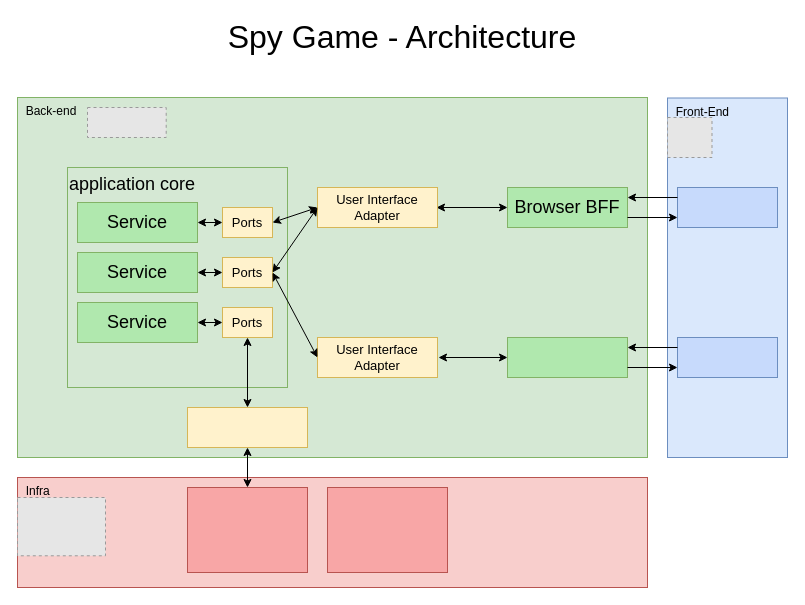
The diagram is 805 pixels wide and 605 high, and some of its shapes have lost their labels. Grey dashed boxes stand in for pictures. Here are the shapes that lost their labels. From the top down, the centre of each, then its label:
(727,207): Browser
(567,357): Mobile BFF
(727,357): Mobile
(247,427): Infrastructure Adapters
(247,529): Table 1 PK uniqueId FK1 foreignKey fieldname
(387,529): Table 2 PK uniqueId FK1 foreignKey fieldname
